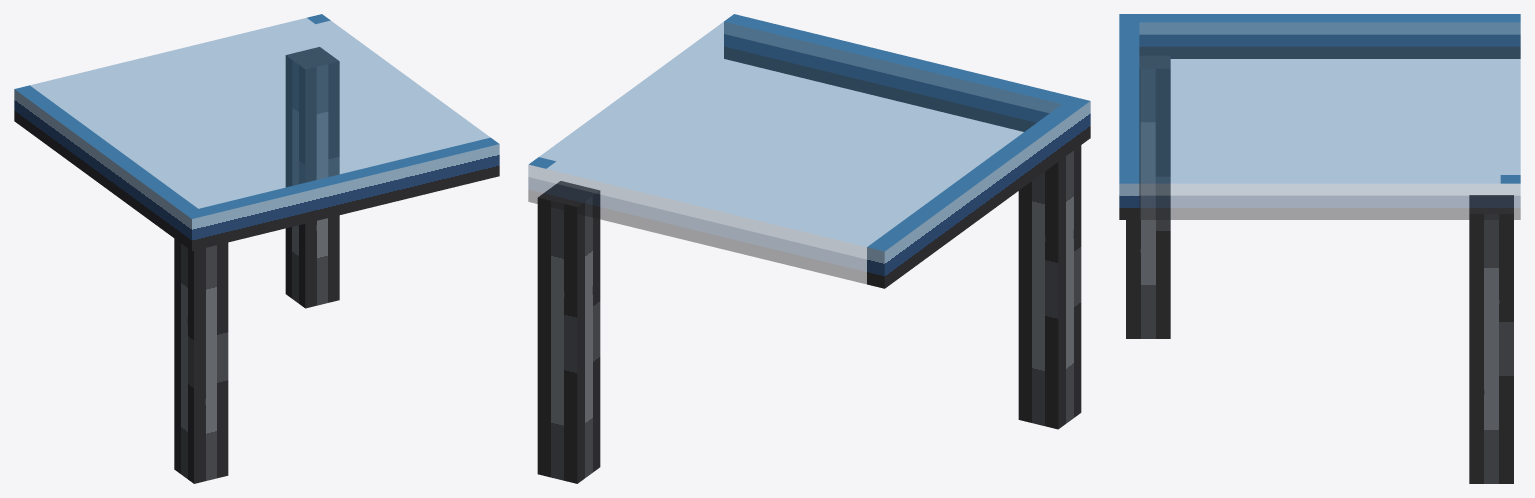
File: glass_table_corner_2legs.glb
3 renders of one model, left to right at view 1: azimuth 30°, elevation 25°; view 2: azimuth 150°, elevation 25°; view 3: azimuth 270°, elevation 25°, orthographic. The views are drawn at different scales.
Visible parts, largest first — view 1: glass_table_corner_2legs; view 2: glass_table_corner_2legs; view 3: glass_table_corner_2legs.
Part boxes in pixels (bbox=[...]): glass_table_corner_2legs: bbox=[14, 14, 499, 483]; glass_table_corner_2legs: bbox=[528, 14, 1090, 483]; glass_table_corner_2legs: bbox=[1119, 14, 1520, 483].
Bounding box in the file's own units: 0.9 × 0.7501 × 0.9.
Materials: 2 (2 with a texture image).
